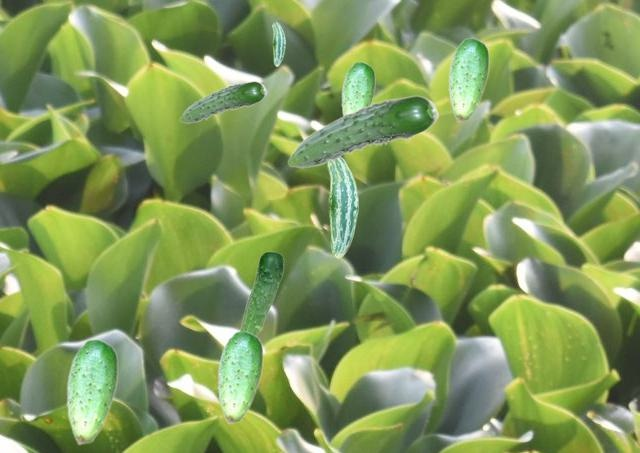cucumber: (287, 95, 438, 167), (66, 338, 117, 444), (217, 330, 262, 423), (239, 251, 283, 335), (179, 81, 266, 122), (448, 37, 488, 121), (327, 157, 357, 257), (341, 61, 374, 114), (272, 22, 284, 65)
